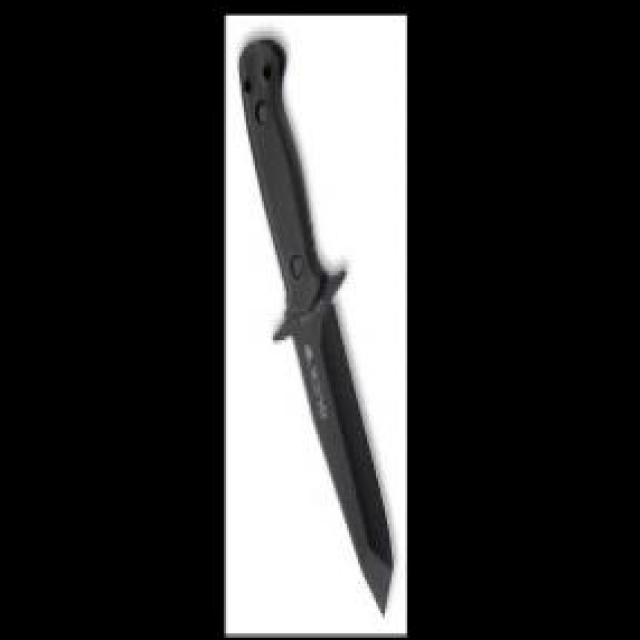knife: (237, 40, 396, 619)
